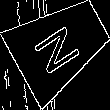N_NE: (32, 15, 89, 76)
